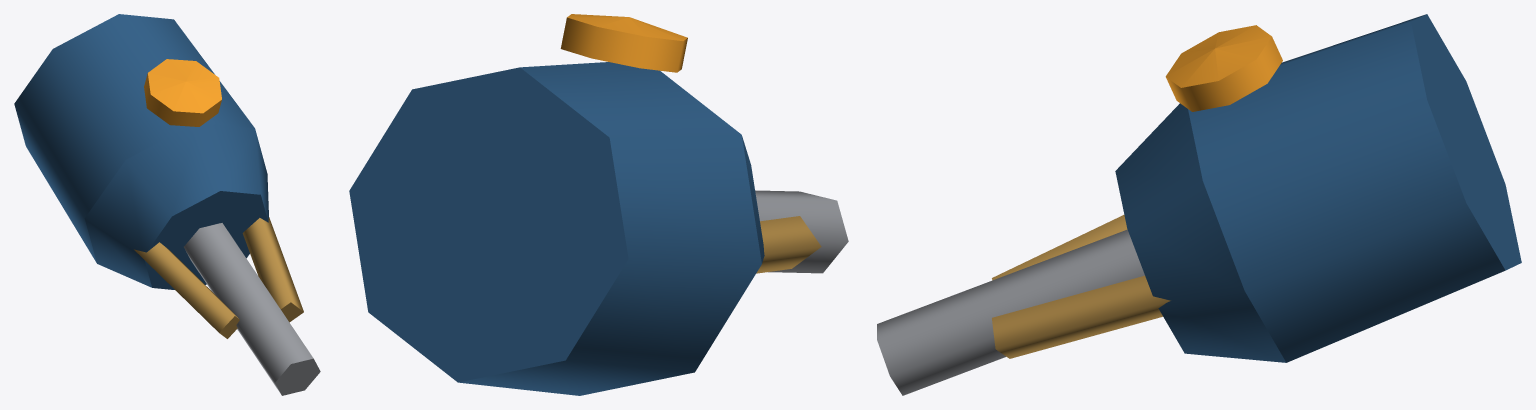
File: rm2_tool_head.obj
The picture shows the model from 3 angles, left to right: view 1: azimuth 30°, elevation 25°; view 2: azimuth 150°, elevation 25°; view 3: azimuth 270°, elevation 25°; orthographic projection. The views are drawn at different scales.
Visible parts, largest first — view 1: rm2_tool_head; view 2: rm2_tool_head; view 3: rm2_tool_head.
Part boxes in pixels (x1,y1,x2,y2): rm2_tool_head: [14, 14, 320, 395]; rm2_tool_head: [349, 14, 848, 395]; rm2_tool_head: [877, 14, 1521, 395].
Bounding box in the file's own units: 0.064 × 0.0841 × 0.1342.
